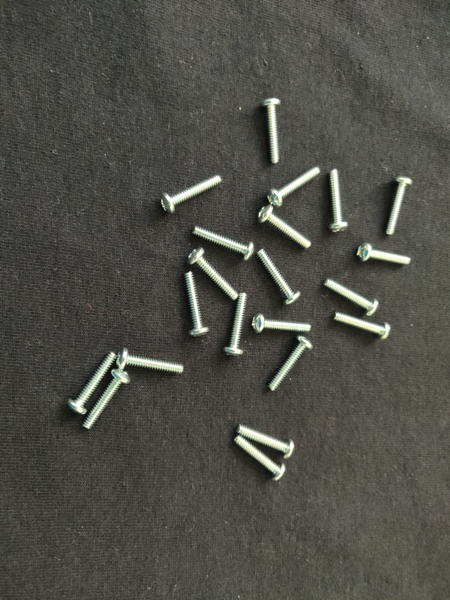longscrew: (65, 348, 117, 416), (80, 366, 132, 434), (187, 247, 239, 302), (266, 335, 314, 393), (158, 175, 225, 216), (231, 434, 287, 483), (256, 203, 313, 251), (256, 248, 302, 306), (266, 165, 322, 208), (190, 224, 255, 261), (323, 275, 380, 317), (235, 422, 295, 461), (115, 347, 188, 375), (221, 291, 251, 358), (181, 271, 211, 338), (383, 175, 414, 238), (331, 310, 391, 342), (326, 168, 352, 236), (259, 97, 284, 167), (355, 242, 414, 269), (251, 313, 313, 337)
